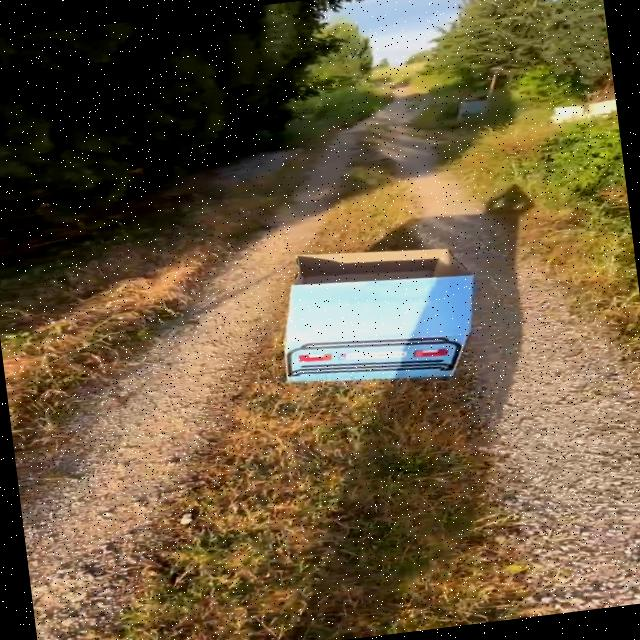blue_car: (233, 211, 500, 415)
